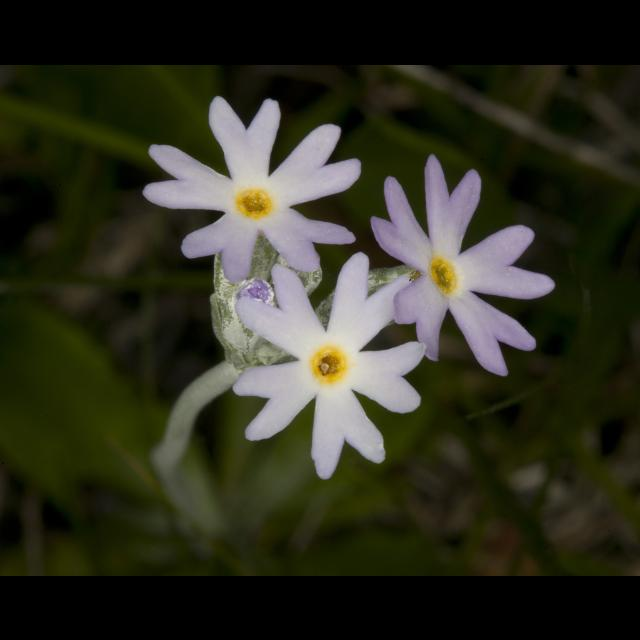Flower: (232, 262, 430, 480), (368, 152, 554, 374), (143, 95, 365, 277)
